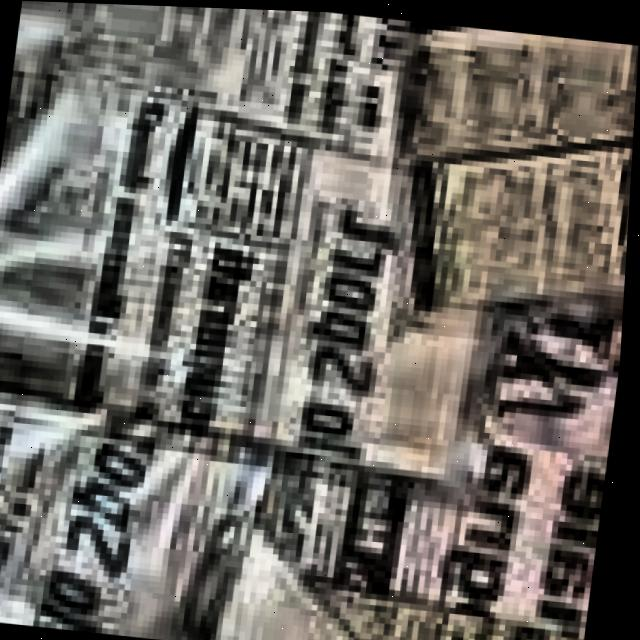paper: (0, 1, 639, 640), (0, 1, 478, 483), (426, 19, 639, 294)
